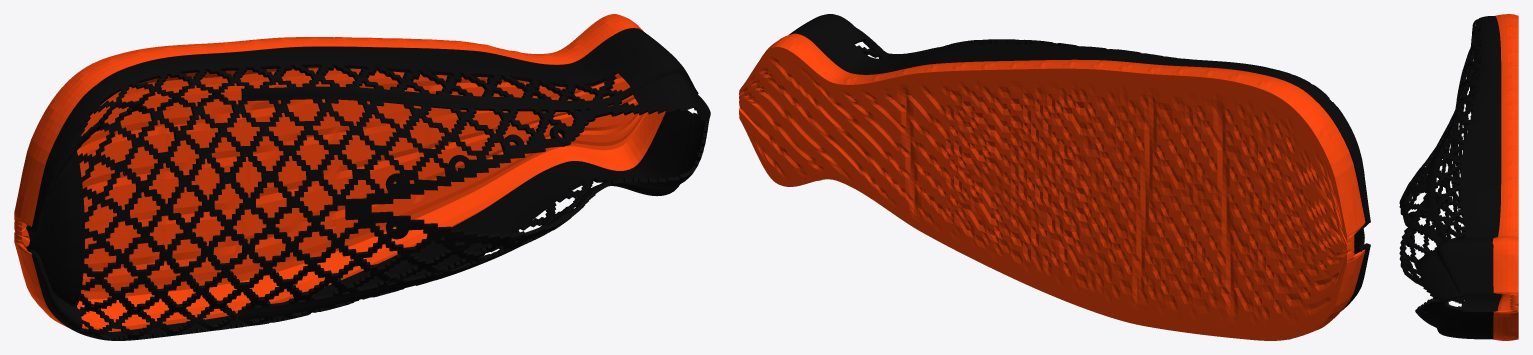
Rendered from left_full_printed_barefoot_shoe.obj.
3 views of the same model, side by side, from view 1: azimuth 30°, elevation 25°; view 2: azimuth 150°, elevation 25°; view 3: azimuth 270°, elevation 25° (orthographic). The views are drawn at different scales.
Parts seen in each view (by area): view 1: left_printed_tpu_lattice_upper, left_tpu_outsole; view 2: left_tpu_outsole, left_printed_tpu_lattice_upper; view 3: left_printed_tpu_lattice_upper, left_tpu_outsole, left_eyelet_08, left_eyelet_03.
Boxes of the visible parts, left/top/right/bottom form: left_printed_tpu_lattice_upper: left=26, top=28, right=710, bottom=340; left_tpu_outsole: left=14, top=14, right=665, bottom=331; left_tpu_outsole: left=739, top=33, right=1365, bottom=340; left_printed_tpu_lattice_upper: left=789, top=14, right=1370, bottom=310; left_printed_tpu_lattice_upper: left=1399, top=16, right=1501, bottom=339; left_tpu_outsole: left=1492, top=14, right=1518, bottom=340; left_eyelet_08: left=1404, top=211, right=1417, bottom=224; left_eyelet_03: left=1406, top=231, right=1414, bottom=246.
Bounding box in the file's own units: 279 × 118 × 66.05.
